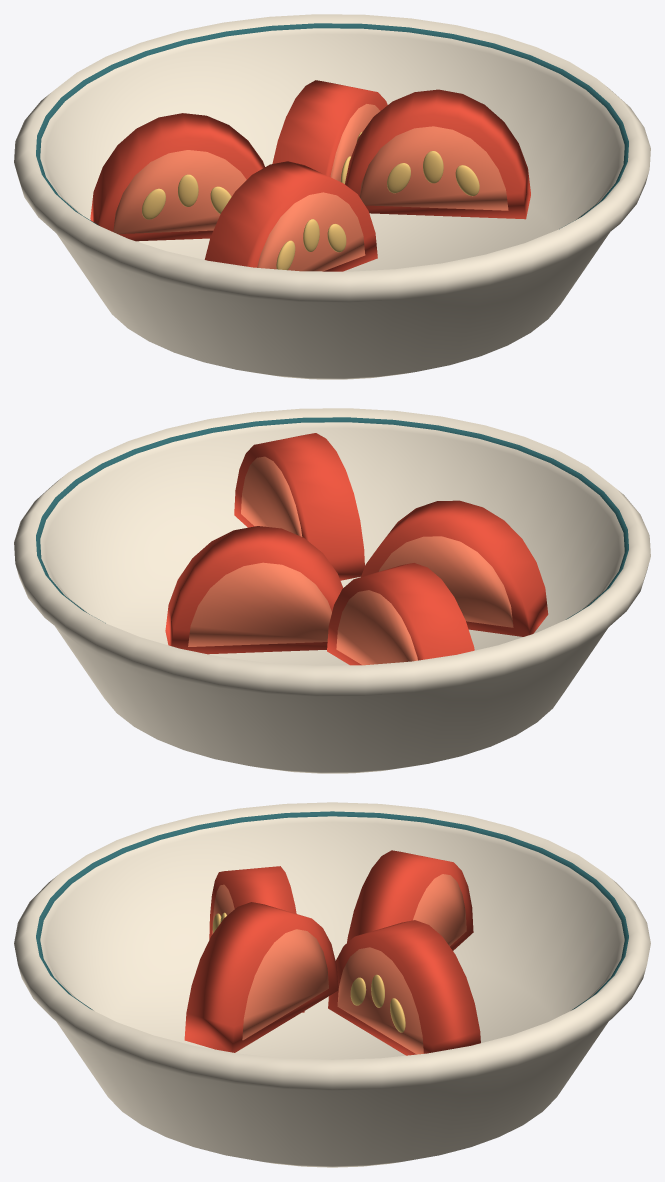
Rendered from dish-tomato.obj.
3 views of the same model, one above another, from view 1: azimuth 30°, elevation 25°; view 2: azimuth 150°, elevation 25°; view 3: azimuth 270°, elevation 25° (orthographic).
Visible parts, largest first — view 1: dish-tomato_ivory, dish-tomato_tomato, dish-tomato_tomatoFlesh, dish-tomato_seed, dish-tomato_teal; view 2: dish-tomato_ivory, dish-tomato_tomato, dish-tomato_tomatoFlesh, dish-tomato_teal; view 3: dish-tomato_ivory, dish-tomato_tomato, dish-tomato_tomatoFlesh, dish-tomato_teal, dish-tomato_seed.
Part boxes in pixels (left/top/right/bottom): dish-tomato_ivory: left=14, top=14, right=650, bottom=379; dish-tomato_tomato: left=90, top=80, right=530, bottom=271; dish-tomato_tomatoFlesh: left=113, top=104, right=508, bottom=271; dish-tomato_seed: left=142, top=131, right=479, bottom=270; dish-tomato_teal: left=36, top=23, right=628, bottom=229; dish-tomato_ivory: left=14, top=408, right=650, bottom=773; dish-tomato_tomato: left=165, top=433, right=548, bottom=665; dish-tomato_tomatoFlesh: left=188, top=456, right=513, bottom=665; dish-tomato_teal: left=36, top=417, right=628, bottom=623; dish-tomato_ivory: left=14, top=802, right=650, bottom=1167; dish-tomato_tomato: left=184, top=850, right=480, bottom=1055; dish-tomato_tomatoFlesh: left=212, top=874, right=466, bottom=1054; dish-tomato_teal: left=36, top=811, right=628, bottom=1009; dish-tomato_seed: left=212, top=912, right=405, bottom=1032.
Size of the model in its own units: 0.324 by 0.1163 by 0.324.
